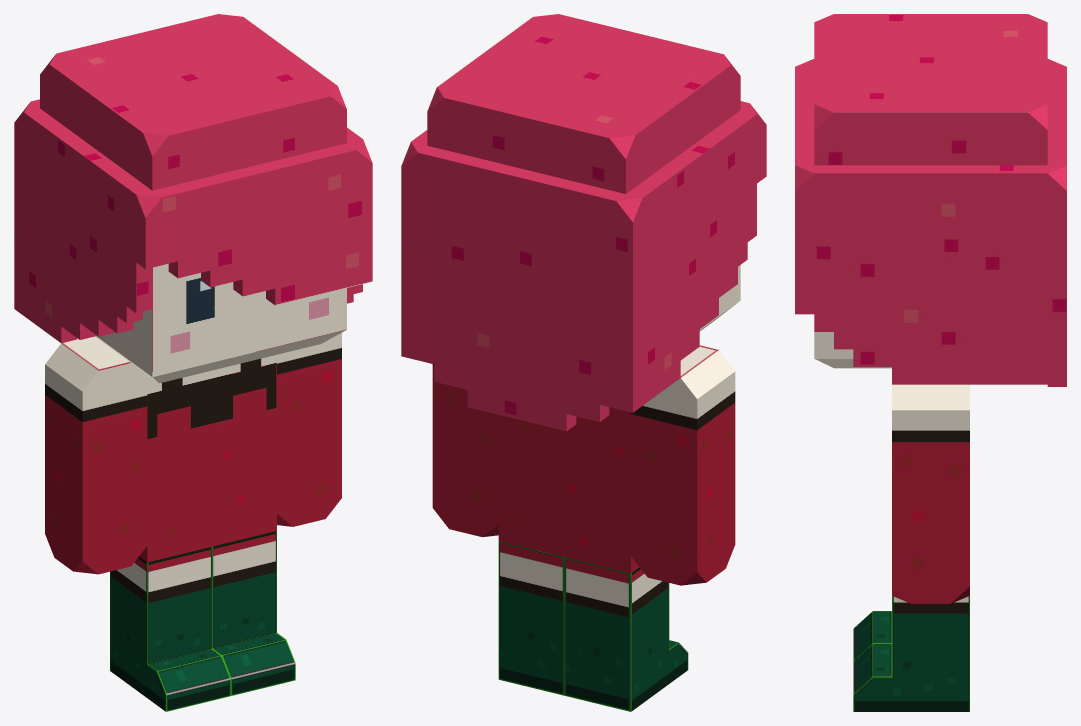
Rendered from ROSE.FBX.
3 renders of one model, left to right at view 1: azimuth 30°, elevation 25°; view 2: azimuth 150°, elevation 25°; view 3: azimuth 270°, elevation 25°, orthographic. The views are drawn at different scales.
Visible parts, largest first — view 1: Box030, Box004, Box011, Box022, Box008, Box006; view 2: Box030, Box011, Box004, Box022, Box006, Box008; view 3: Box030, Box008, Box006, Box022.
Part boxes in pixels (bbox=[...]): Box030: bbox=[14, 14, 372, 383]; Box004: bbox=[139, 355, 276, 562]; Box011: bbox=[45, 336, 147, 574]; Box022: bbox=[110, 547, 230, 711]; Box008: bbox=[277, 332, 341, 526]; Box006: bbox=[212, 531, 295, 695]; Box030: bbox=[401, 14, 766, 431]; Box011: bbox=[631, 345, 735, 585]; Box004: bbox=[498, 407, 639, 573]; Box022: bbox=[565, 557, 688, 711]; Box006: bbox=[498, 541, 564, 695]; Box008: bbox=[432, 364, 498, 537]; Box030: bbox=[795, 14, 1066, 386]; Box008: bbox=[892, 384, 969, 603]; Box006: bbox=[853, 596, 969, 711]; Box022: bbox=[853, 611, 891, 660].
Bounding box in the file's own units: 240 × 525 × 210.
